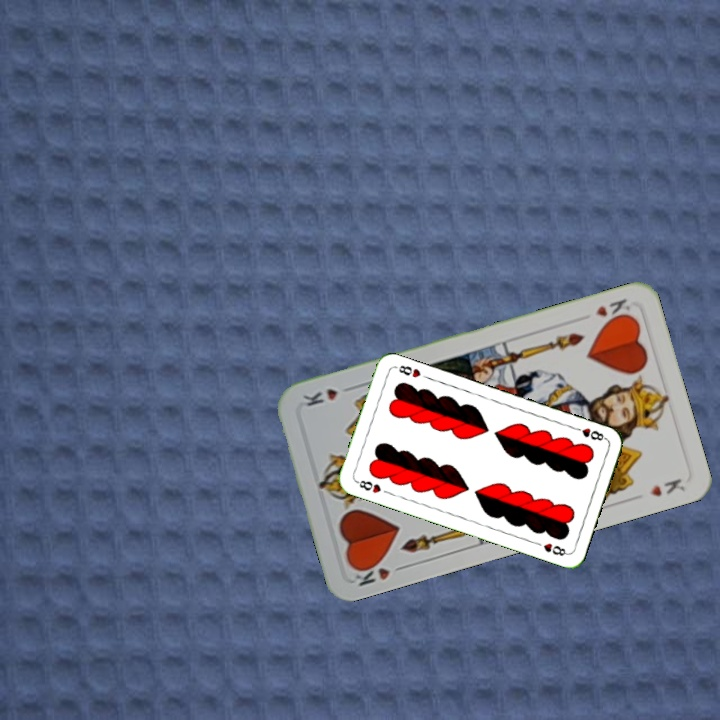H8: (569, 423, 609, 443), (352, 476, 384, 496)
HK: (349, 556, 409, 589), (591, 294, 630, 319)
